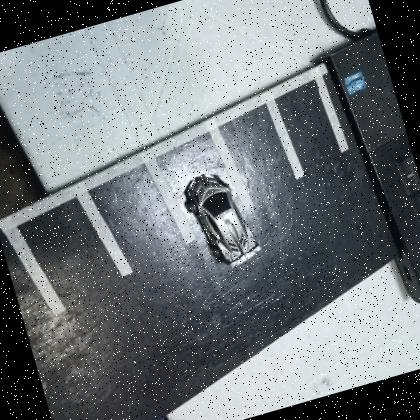Car: (184, 174, 260, 266)
